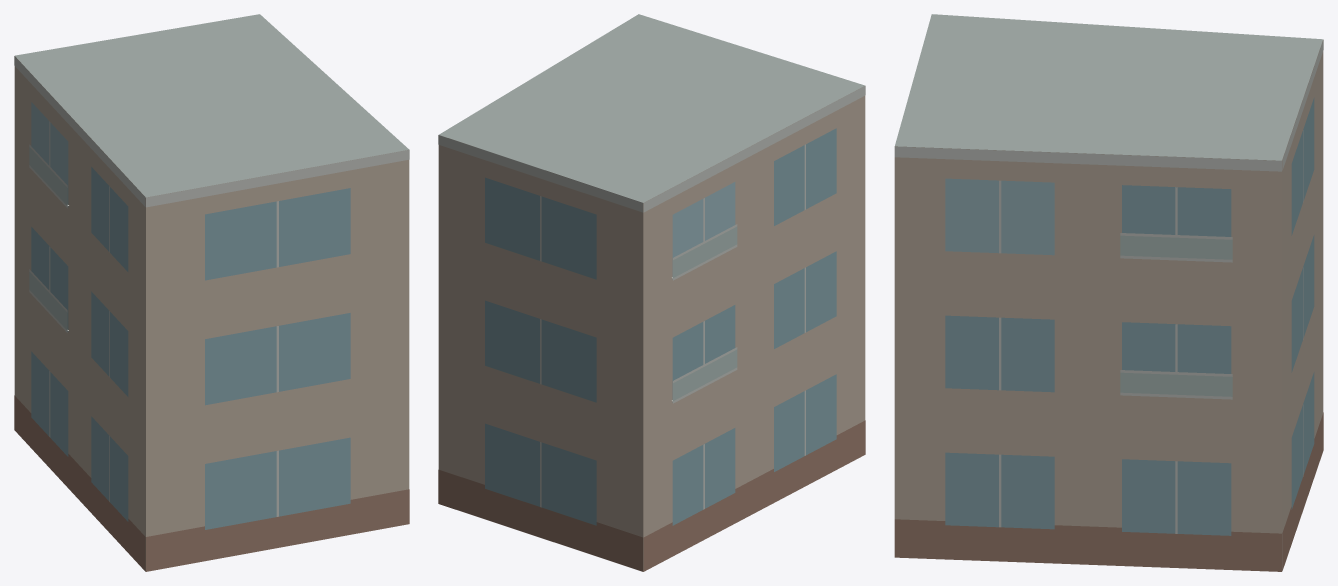
File: survey-upis-32962602.glb
The picture shows the model from 3 angles, left to right: view 1: azimuth 30°, elevation 25°; view 2: azimuth 150°, elevation 25°; view 3: azimuth 270°, elevation 25°; orthographic projection. The views are drawn at different scales.
Parts seen in each view (by area): view 1: survey-upis-32962602.tmp; view 2: survey-upis-32962602.tmp; view 3: survey-upis-32962602.tmp.
Part boxes in pixels (x1,y1,x2,y2): survey-upis-32962602.tmp: (14, 14, 409, 571); survey-upis-32962602.tmp: (438, 14, 865, 571); survey-upis-32962602.tmp: (894, 14, 1323, 571).
Bounding box in the file's own units: 7.01 × 9.15 × 8.66.
